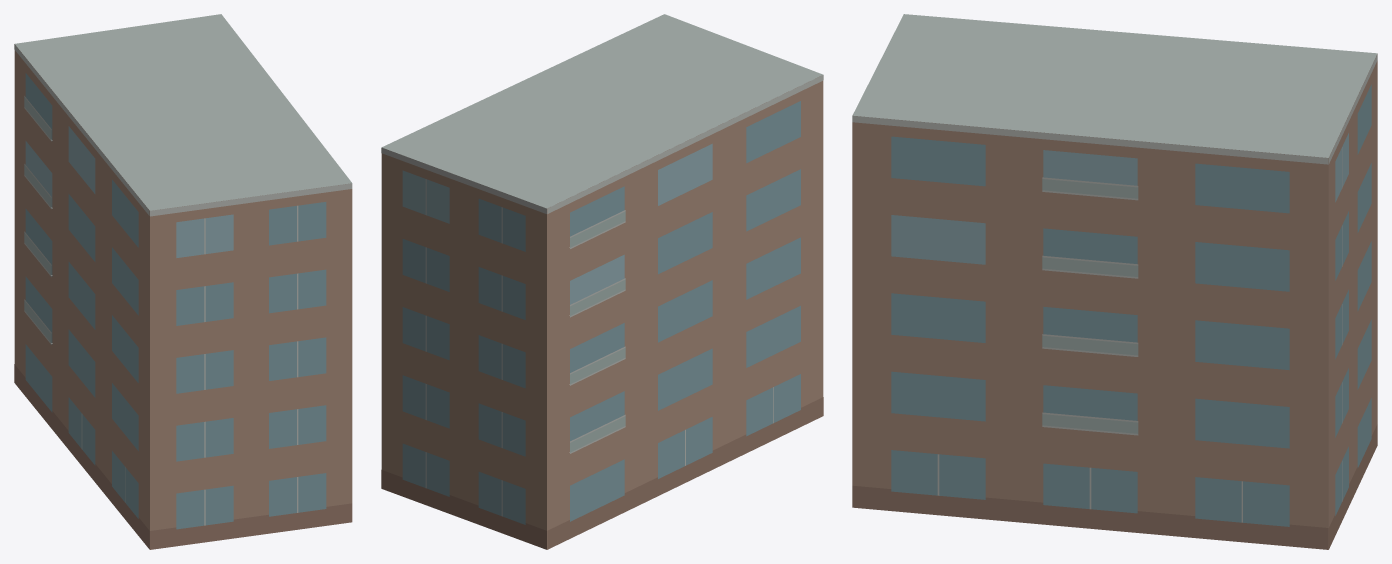
Rendered from survey-upis-32877790.glb.
3 views of the same model, side by side, from view 1: azimuth 30°, elevation 25°; view 2: azimuth 150°, elevation 25°; view 3: azimuth 270°, elevation 25° (orthographic). The views are drawn at different scales.
Visible parts, largest first — view 1: survey-upis-32877790.tmp; view 2: survey-upis-32877790.tmp; view 3: survey-upis-32877790.tmp.
Part boxes in pixels (x1,y1,x2,y2): survey-upis-32877790.tmp: [14, 14, 352, 549]; survey-upis-32877790.tmp: [381, 14, 823, 549]; survey-upis-32877790.tmp: [852, 14, 1377, 549].
Bounding box in the file's own units: 11.44 × 14.5 × 17.63.
